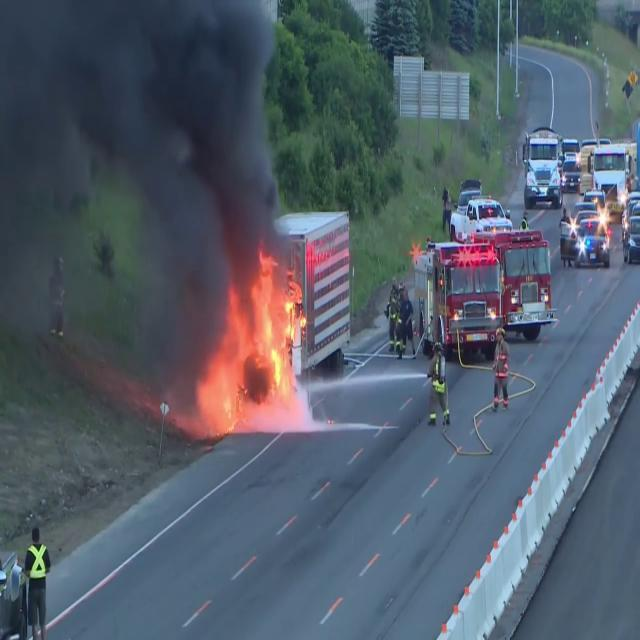Fire: (200, 254, 307, 426)
Smoke: (0, 1, 284, 399)
